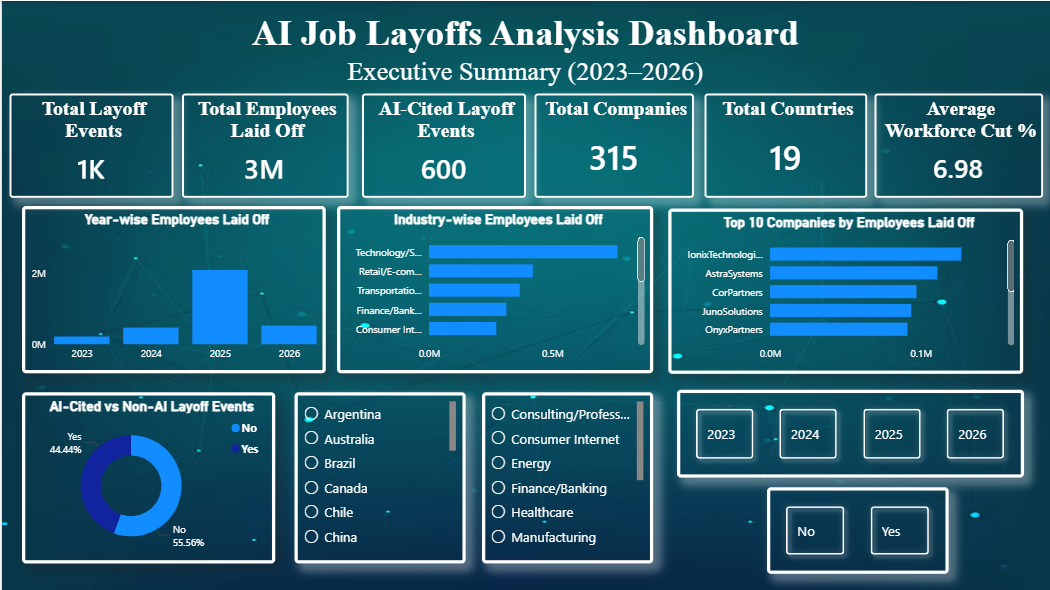

This screenshot's page, from the dashboard's own definition file:
{"tool":"powerbi","page":{"name":"Executive Summary","canvas":[1280,720],"ordinal":0},"visuals":[{"type":"textbox","title":"AI Job Layoffs Analysis Dashboard","box":[8.2,13.7,1261.1,98.8],"z":0},{"type":"cardVisual","title":"Total Layoff Events","fields":{"Data":["ai_job_layoffs_db ai_job_layoffs_cleaned.Total Layoff Events"]},"box":[8.6,112.9,200,127.2],"z":1000},{"type":"cardVisual","title":"AI-Cited Layoff Events","fields":{"Data":["ai_job_layoffs_db ai_job_layoffs_cleaned.AI-Cited Layoff Events"]},"box":[438.7,112.9,200,127.2],"z":2000},{"type":"cardVisual","title":"Total Employees Laid Off","fields":{"Data":["ai_job_layoffs_db ai_job_layoffs_cleaned.Total Employees Laid Off"]},"box":[220,112.9,202.9,127.2],"z":3000},{"type":"cardVisual","title":"Total Countries","fields":{"Data":["ai_job_layoffs_db ai_job_layoffs_cleaned.Total Countries"]},"box":[855.9,112.9,198.6,127.2],"z":4000},{"type":"cardVisual","title":"Total Companies","fields":{"Data":["ai_job_layoffs_db ai_job_layoffs_cleaned.Total Companies"]},"box":[648.7,112.9,194.3,127.2],"z":5000},{"type":"cardVisual","title":"Average Workforce Cut %","fields":{"Data":["ai_job_layoffs_db ai_job_layoffs_cleaned.Average Workforce Cut %"]},"box":[1064.5,112.9,205.8,127.2],"z":6000},{"type":"clusteredColumnChart","title":"Year-wise Employees Laid Off","fields":{"Category":["ai_job_layoffs_db ai_job_layoffs_cleaned.year"],"Y":["Sum(ai_job_layoffs_db ai_job_layoffs_cleaned.headcount_cut)"]},"box":[24.3,250.1,370.1,204.3],"z":7000},{"type":"donutChart","title":"AI-Cited vs Non-AI Layoff Events","fields":{"Y":["CountNonNull(ai_job_layoffs_db ai_job_layoffs_cleaned.event_id)"],"Category":["ai_job_layoffs_db ai_job_layoffs_cleaned.ai_cited_as_reason"]},"box":[24.3,477.3,308.6,208.6],"z":8000},{"type":"clusteredBarChart","title":"Industry-wise Employees Laid Off","fields":{"Category":["ai_job_layoffs_db ai_job_layoffs_cleaned.industry"],"Y":["Sum(ai_job_layoffs_db ai_job_layoffs_cleaned.headcount_cut)"]},"box":[408.7,250.1,385.8,204.3],"z":9000},{"type":"clusteredBarChart","title":"Top 10 Companies by Employees Laid Off","fields":{"Y":["Sum(ai_job_layoffs_db ai_job_layoffs_cleaned.headcount_cut)"],"Category":["ai_job_layoffs_db ai_job_layoffs_cleaned.company_name"]},"box":[813,252.9,433,201.5],"z":10000},{"type":"advancedSlicerVisual","title":"Select Year","fields":{"Values":["ai_job_layoffs_db ai_job_layoffs_cleaned.year"]},"box":[823,474.4,423,107.2],"z":11000},{"type":"advancedSlicerVisual","fields":{"Values":["ai_job_layoffs_db ai_job_layoffs_cleaned.ai_cited_as_reason"]},"box":[933.1,593,221.5,105.7],"z":12000},{"type":"listSlicer","fields":{"Values":["ai_job_layoffs_db ai_job_layoffs_cleaned.country"]},"box":[357.2,477.3,208.6,208.6],"z":13000},{"type":"listSlicer","fields":{"Values":["ai_job_layoffs_db ai_job_layoffs_cleaned.industry"]},"box":[585.8,477.3,208.6,208.6],"z":14000}]}

Visuals, with their boxes in screenshot pixels (x1, y1, x2, y2), scaled from the page's 1280x720 canvas onto the 1050x590 screenshot:
"AI Job Layoffs Analysis Dashboard" textbox: select_region(7, 11, 1041, 92)
"Total Layoff Events" cardVisual: select_region(7, 93, 171, 197)
"AI-Cited Layoff Events" cardVisual: select_region(360, 93, 524, 197)
"Total Employees Laid Off" cardVisual: select_region(180, 93, 347, 197)
"Total Countries" cardVisual: select_region(702, 93, 865, 197)
"Total Companies" cardVisual: select_region(532, 93, 692, 197)
"Average Workforce Cut %" cardVisual: select_region(873, 93, 1042, 197)
"Year-wise Employees Laid Off" clusteredColumnChart: select_region(20, 205, 324, 372)
"AI-Cited vs Non-AI Layoff Events" donutChart: select_region(20, 391, 273, 562)
"Industry-wise Employees Laid Off" clusteredBarChart: select_region(335, 205, 652, 372)
"Top 10 Companies by Employees Laid Off" clusteredBarChart: select_region(667, 207, 1022, 372)
"Select Year" advancedSlicerVisual: select_region(675, 389, 1022, 477)
advancedSlicerVisual - ai_job_layoffs_db ai_job_layoffs_cleaned.ai_cited_as_reason: select_region(765, 486, 947, 573)
listSlicer - ai_job_layoffs_db ai_job_layoffs_cleaned.country: select_region(293, 391, 464, 562)
listSlicer - ai_job_layoffs_db ai_job_layoffs_cleaned.industry: select_region(481, 391, 652, 562)
